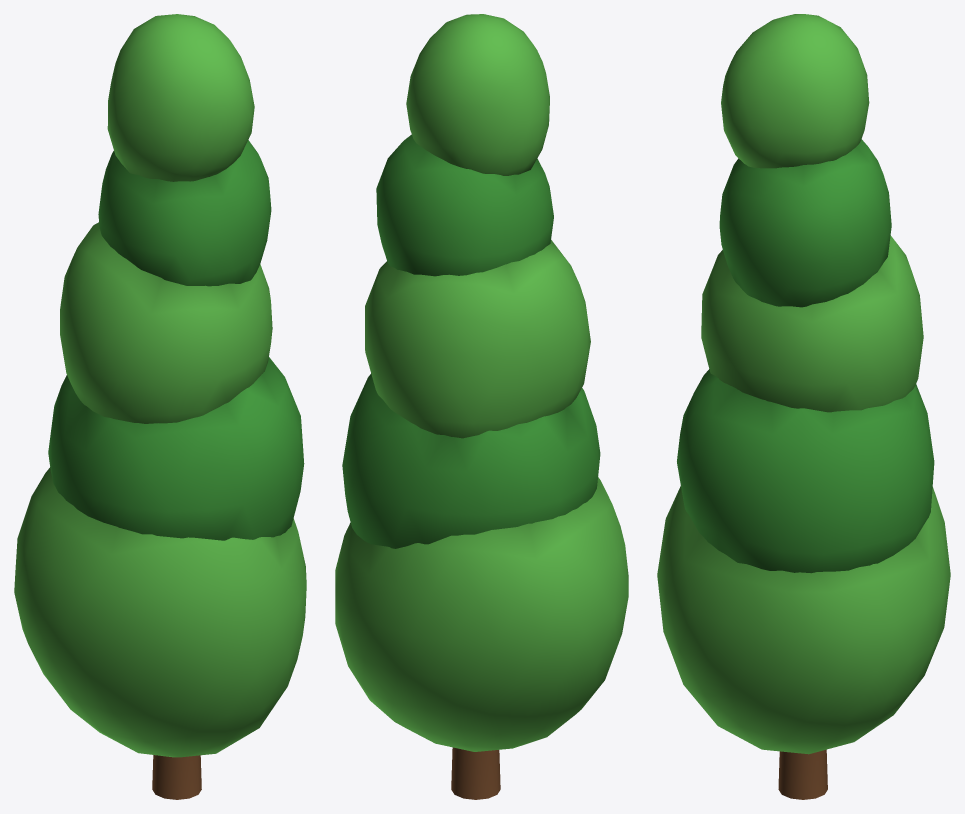
File: vl_poplar.glb
The picture shows the model from 3 angles, left to right: view 1: azimuth 30°, elevation 25°; view 2: azimuth 150°, elevation 25°; view 3: azimuth 270°, elevation 25°; orthographic projection.
Parts seen in each view (by area): view 1: poplar; view 2: poplar; view 3: poplar.
Part boxes in pixels (left/top/right/bottom): poplar: left=14, top=14, right=306, bottom=799; poplar: left=335, top=14, right=628, bottom=799; poplar: left=657, top=14, right=950, bottom=799.
Size of the model in its own units: 1.95 by 5.49 by 1.9.
